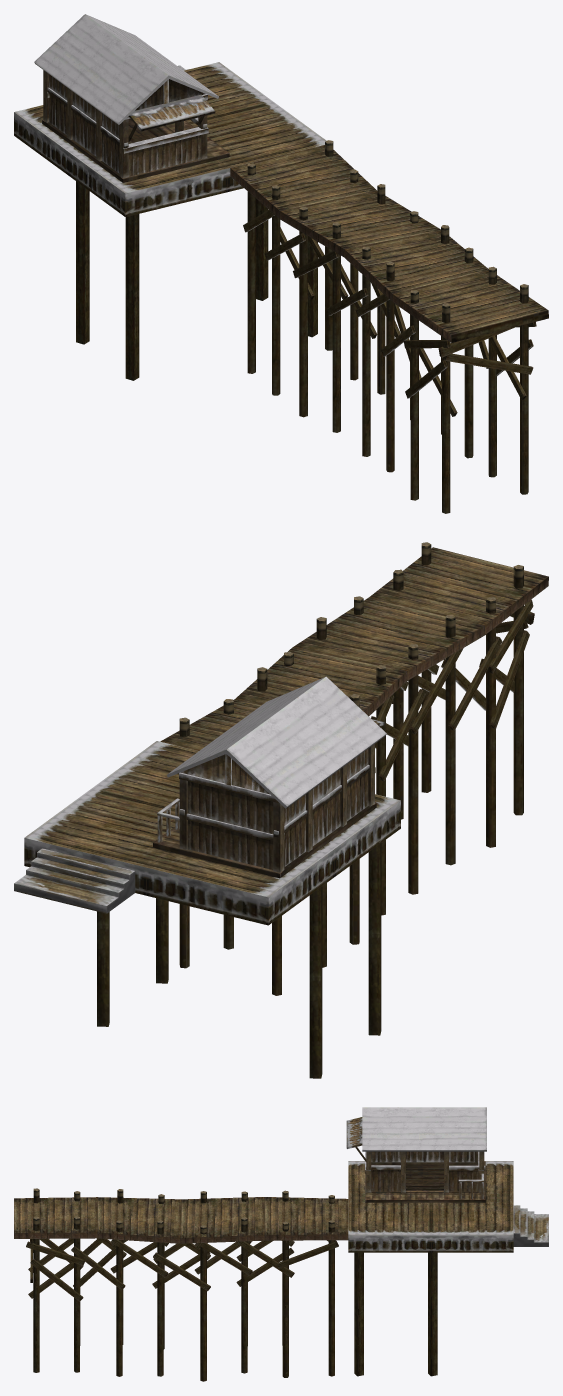
File: nsm-general_obj_01.glb
The picture shows the model from 3 angles, top to bottom: view 1: azimuth 30°, elevation 25°; view 2: azimuth 150°, elevation 25°; view 3: azimuth 270°, elevation 25°; orthographic projection. The views are drawn at different scales.
Visible parts, largest first — view 1: Box02; view 2: Box02; view 3: Box02.
Part boxes in pixels (box(x1,y1,x2,y2)): Box02: box(14, 14, 548, 513); Box02: box(14, 542, 548, 1078); Box02: box(14, 1107, 548, 1381).
Size of the model in its own units: 10.52 by 14.71 by 32.01.
2 materials, 2 textured.
